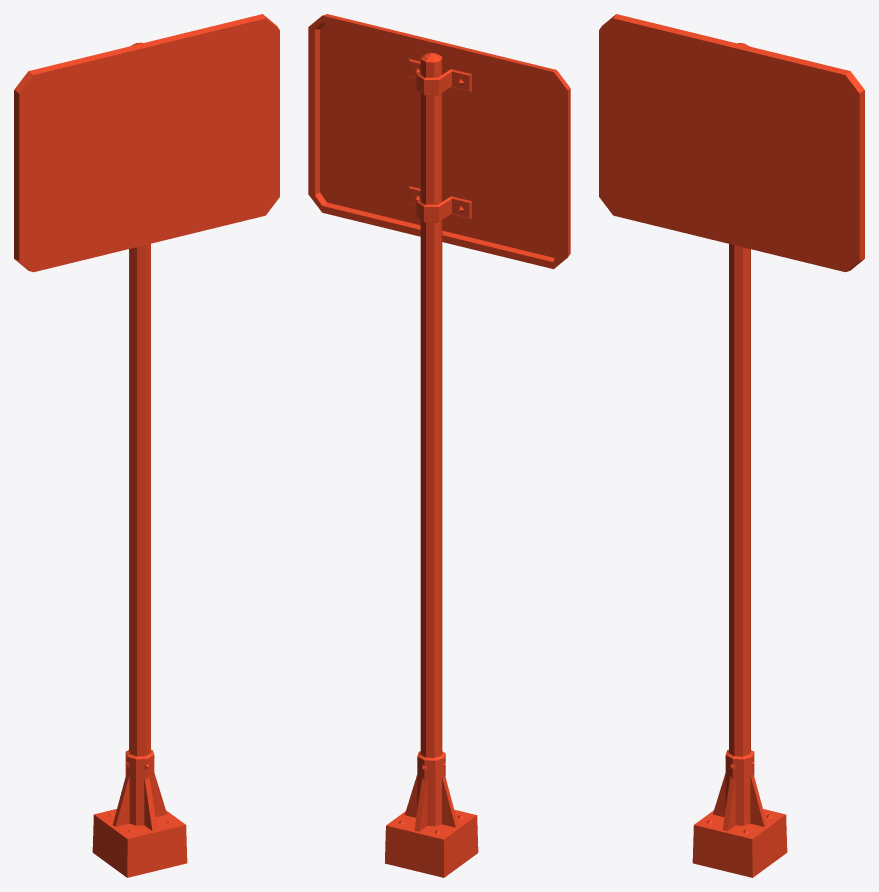
Rendered from SM_Sign_Corner_B_City.fbx.
3 renders of one model, left to right at view 1: azimuth 30°, elevation 25°; view 2: azimuth 150°, elevation 25°; view 3: azimuth 330°, elevation 25°, orthographic.
Visible parts, largest first — view 1: SM_Sign_Corner_B_City; view 2: SM_Sign_Corner_B_City; view 3: SM_Sign_Corner_B_City.
Boxes of the visible parts, x1,y1,x2,y2 form: SM_Sign_Corner_B_City: [14, 14, 279, 877]; SM_Sign_Corner_B_City: [308, 14, 570, 877]; SM_Sign_Corner_B_City: [599, 14, 864, 877].
Size of the model in its own units: 0.8052 by 2.4 by 0.1839.
